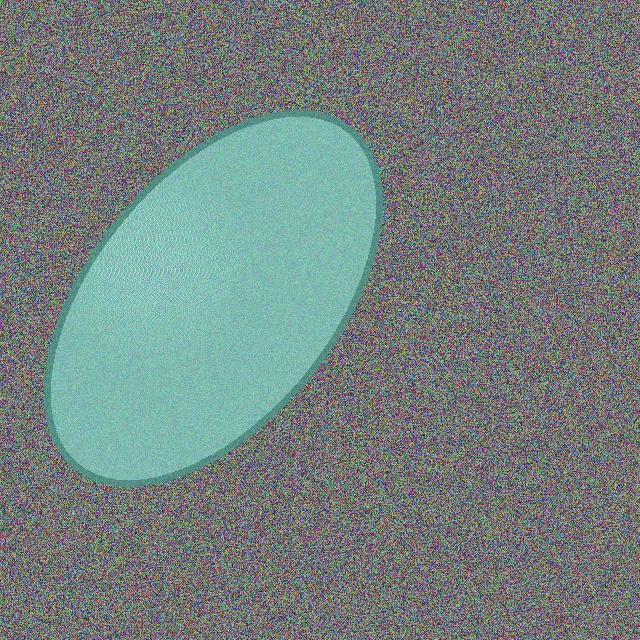lens: (47, 114, 379, 482)
